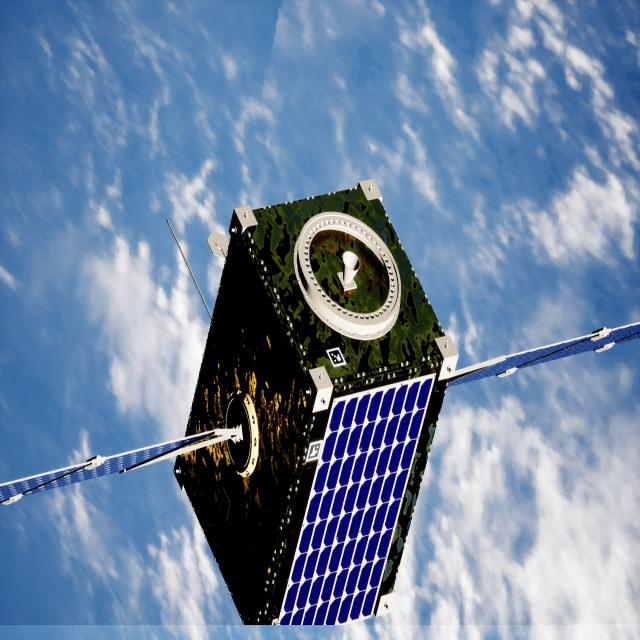medium_debris: (0, 181, 640, 628)
